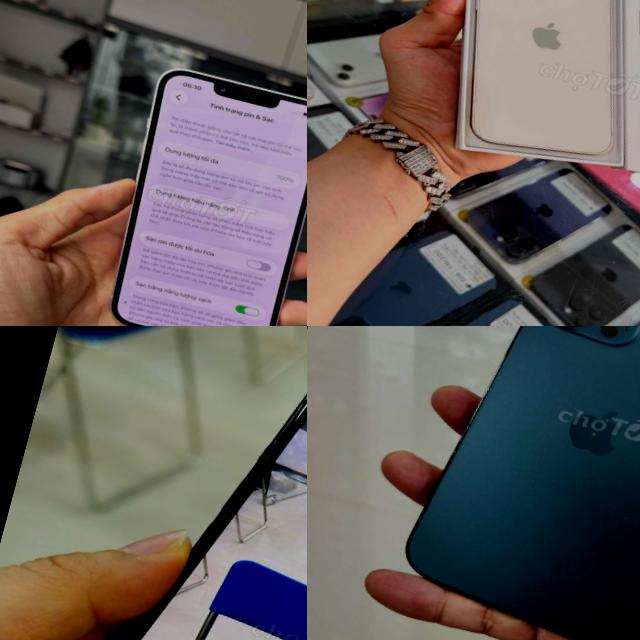gen_12_13: (382, 326, 640, 640), (87, 56, 307, 326), (429, 0, 640, 177)
gen_15: (3, 326, 307, 640)
